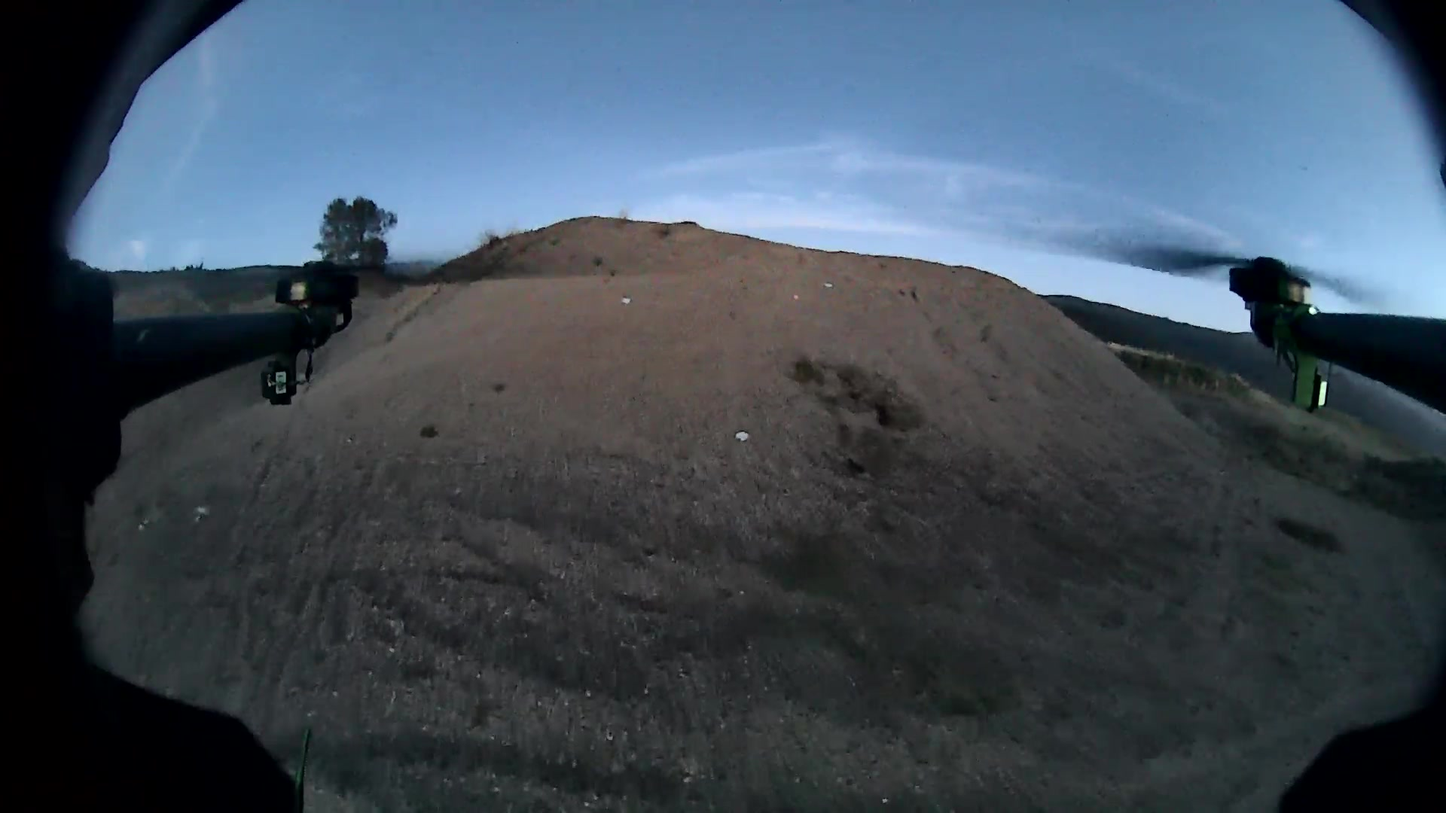Target: (735, 430, 749, 442)
